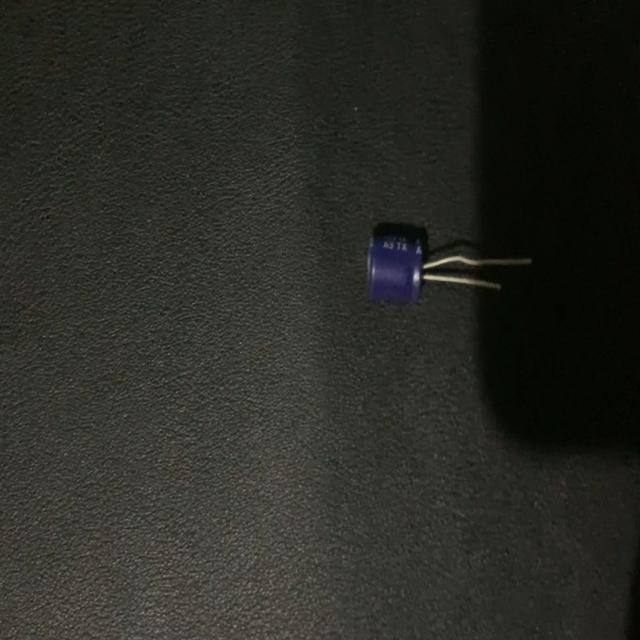capacitor: (364, 224, 535, 306)
